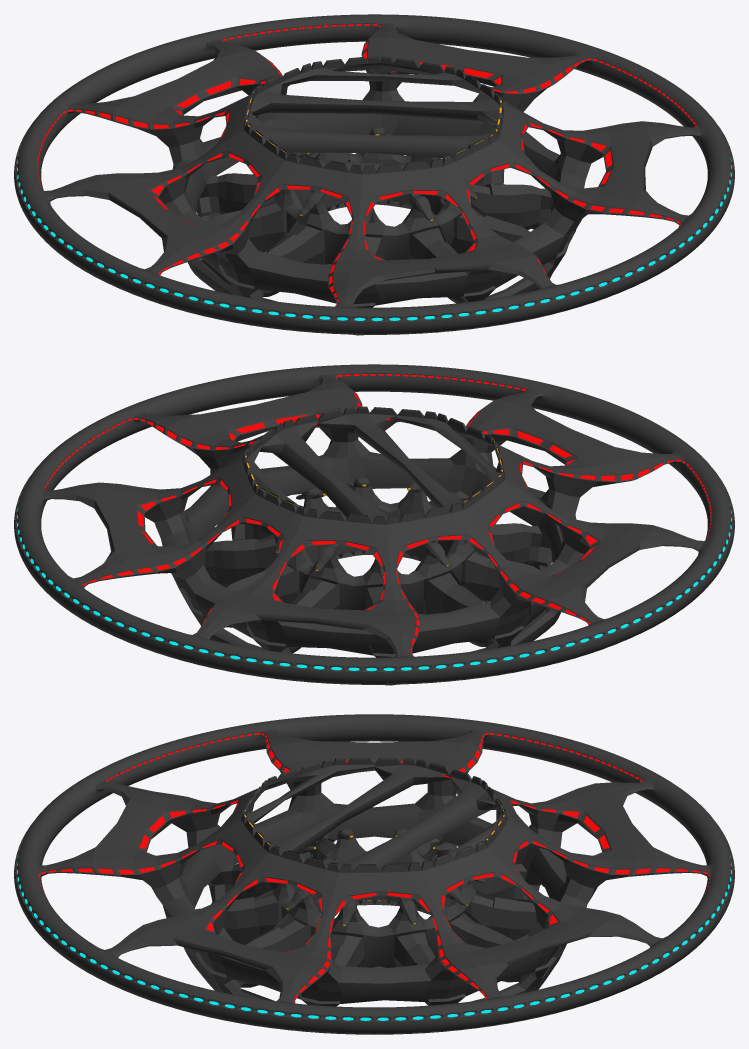
File: OpenFreeSpaceStiation.dae
3 renders of one model, top to bottom at view 1: azimuth 30°, elevation 25°; view 2: azimuth 150°, elevation 25°; view 3: azimuth 270°, elevation 25°, orthographic.
Parts seen in each view (by area): view 1: Torus001; view 2: Torus001; view 3: Torus001.
Boxes of the visible parts, x1,y1,x2,y2 form: Torus001: [14, 14, 734, 335]; Torus001: [14, 364, 734, 685]; Torus001: [14, 714, 734, 1034].
Size of the model in its own units: 364 by 82.14 by 364.
